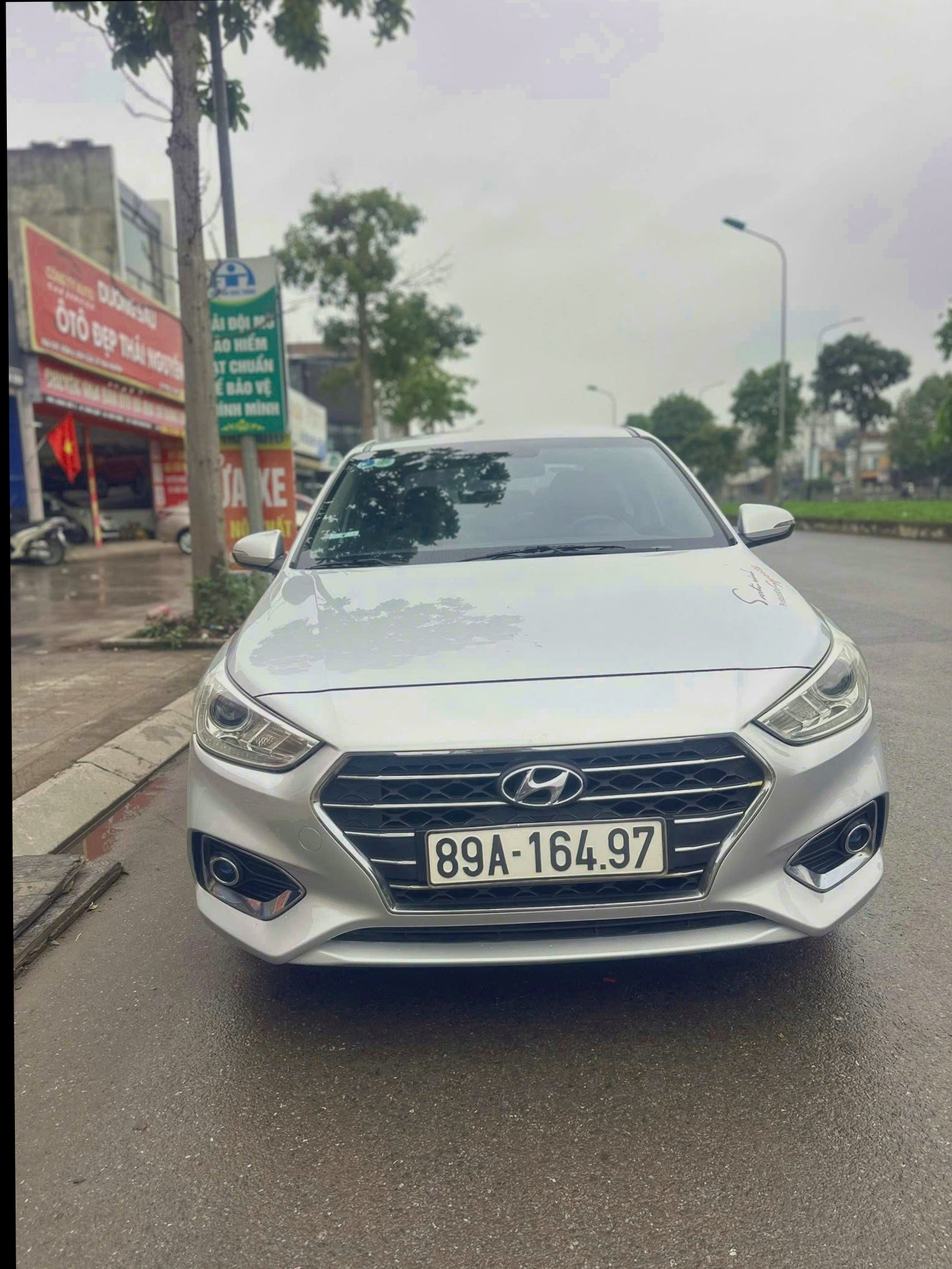Bien-so: (436, 790, 665, 857)
